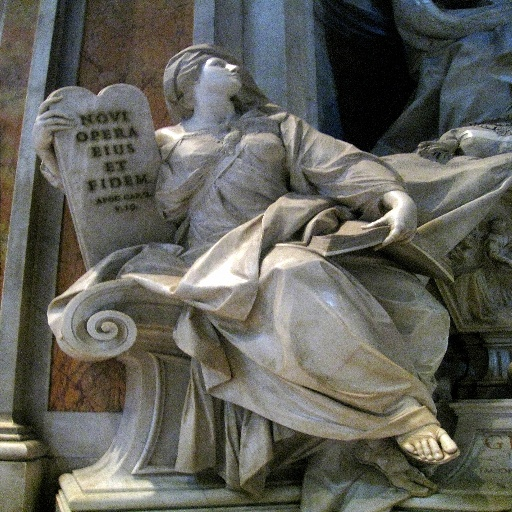hand: (30, 93, 77, 159), (360, 201, 417, 251)
